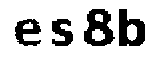8: (81, 5, 114, 50)
b: (116, 5, 147, 53)
e: (12, 17, 43, 48)
s: (49, 16, 76, 48)
